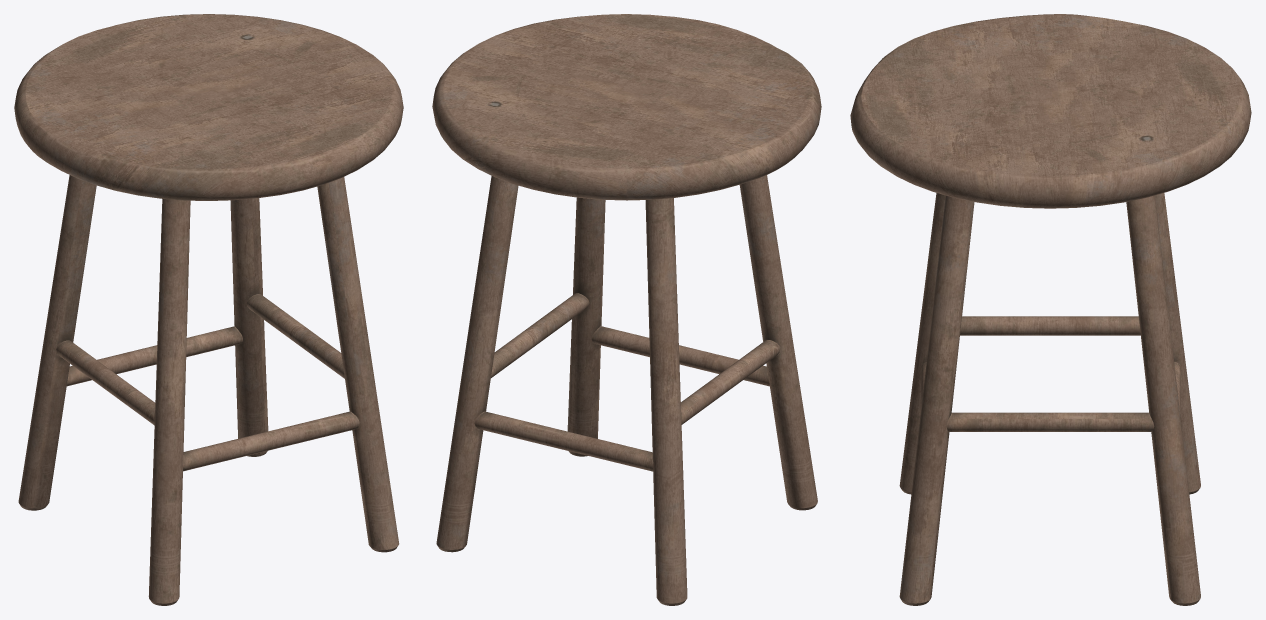
Rendered from stool.fbx.
3 renders of one model, left to right at view 1: azimuth 30°, elevation 25°; view 2: azimuth 150°, elevation 25°; view 3: azimuth 270°, elevation 25°, orthographic. The views are drawn at different scales.
Visible parts, largest first — view 1: Stool; view 2: Stool; view 3: Stool.
Boxes of the visible parts, box(x1,y1,x2,y2) form: Stool: box(14, 14, 403, 605); Stool: box(432, 14, 821, 605); Stool: box(850, 14, 1251, 605).
Bounding box in the file's own units: 45.05 × 55.49 × 44.7.
1 material, 1 textured.
